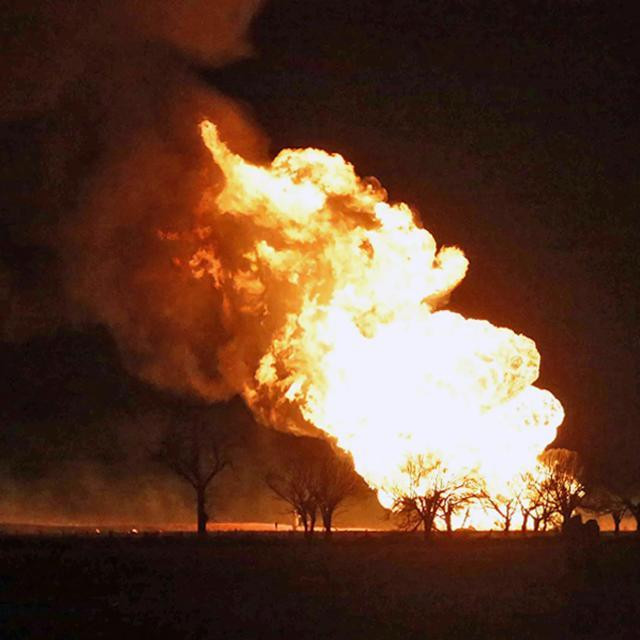fire: (163, 68, 539, 516)
